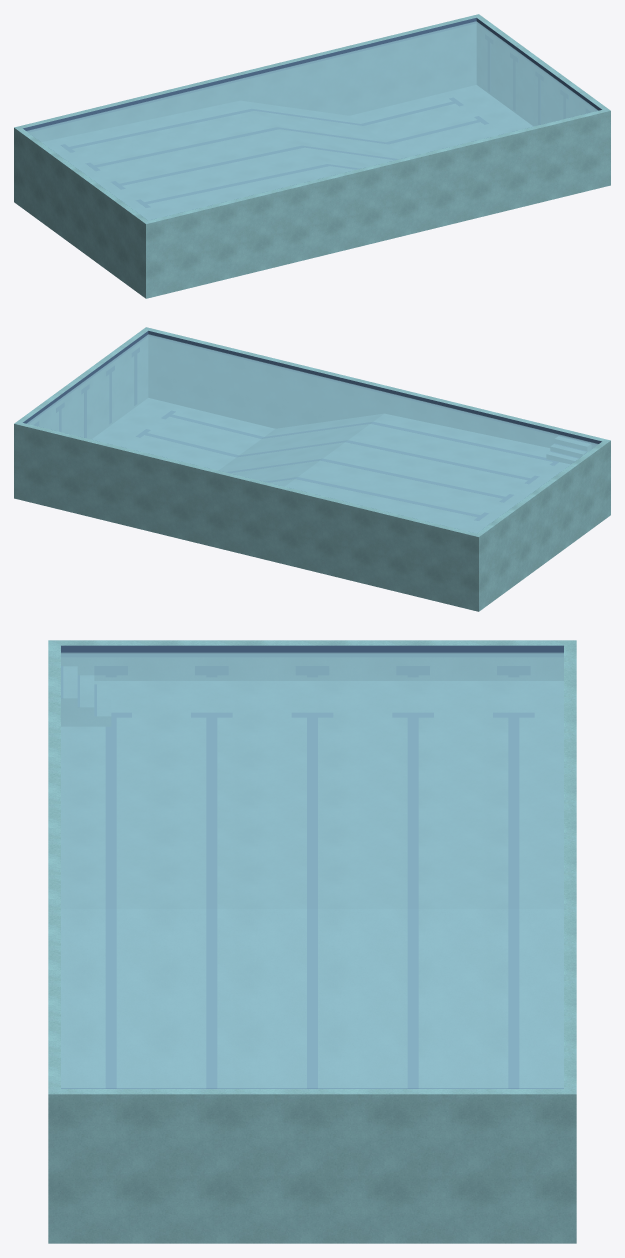
The model's file is basin.glb.
3 views of the same model, one above another, from view 1: azimuth 30°, elevation 25°; view 2: azimuth 150°, elevation 25°; view 3: azimuth 270°, elevation 25° (orthographic). The views are drawn at different scales.
Parts seen in each view (by area): view 1: basin_pool_w, basin_water, basin_lane; view 2: basin_pool_w, basin_water, basin_lane; view 3: basin_pool_w, basin_water, basin_lane.
Part boxes in pixels (x1=…): basin_pool_w: x1=14, y1=14, x2=610, y2=298; basin_water: x1=26, y1=21, x2=598, y2=220; basin_lane: x1=23, y1=17, x2=601, y2=207; basin_pool_w: x1=14, y1=327, x2=610, y2=611; basin_water: x1=26, y1=334, x2=598, y2=533; basin_lane: x1=23, y1=330, x2=601, y2=520; basin_pool_w: x1=48, y1=640, x2=576, y2=1243; basin_water: x1=61, y1=652, x2=563, y2=1088; basin_lane: x1=61, y1=645, x2=563, y2=1088.
Size of the model in its own units: 25.6 by 3.93 by 12.6.
3 materials, 1 textured.
